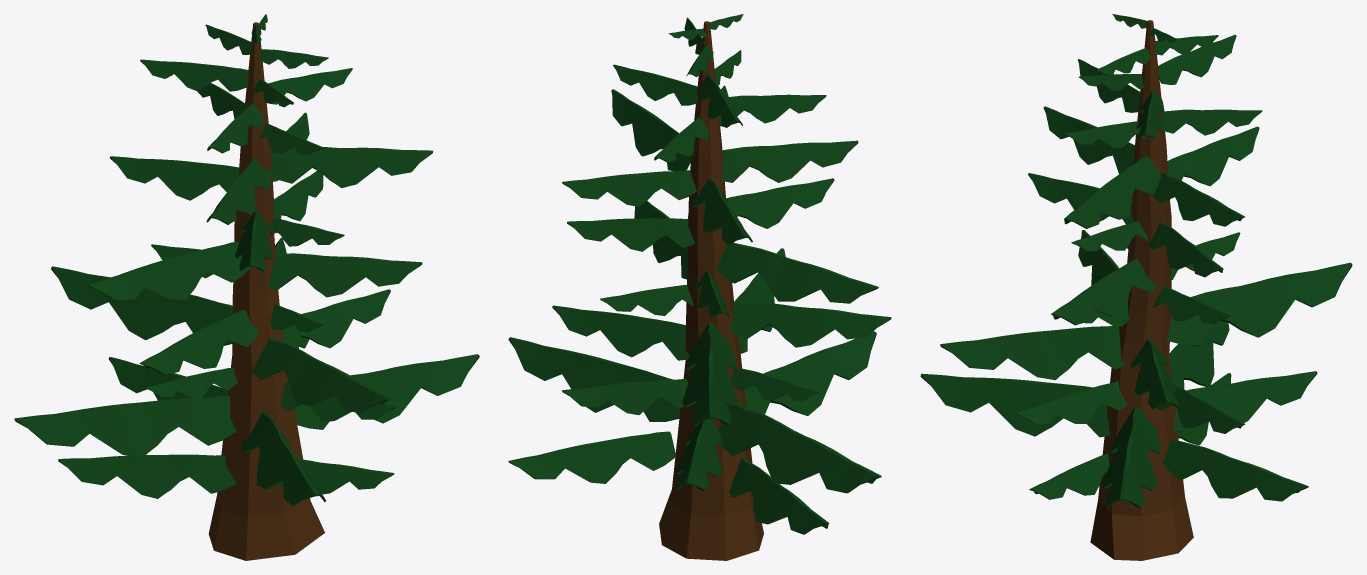
Rendered from Tree4.fbx.
The picture shows the model from 3 angles, left to right: view 1: azimuth 30°, elevation 25°; view 2: azimuth 150°, elevation 25°; view 3: azimuth 270°, elevation 25°; orthographic projection.
Parts seen in each view (by area): view 1: Tree4; view 2: Tree4; view 3: Tree4.
Boxes of the visible parts, x1,y1,x2,y2 form: Tree4: [14, 14, 479, 560]; Tree4: [508, 14, 891, 560]; Tree4: [920, 14, 1352, 560].
Bounding box in the file's own units: 6.57 × 7.75 × 5.87.
